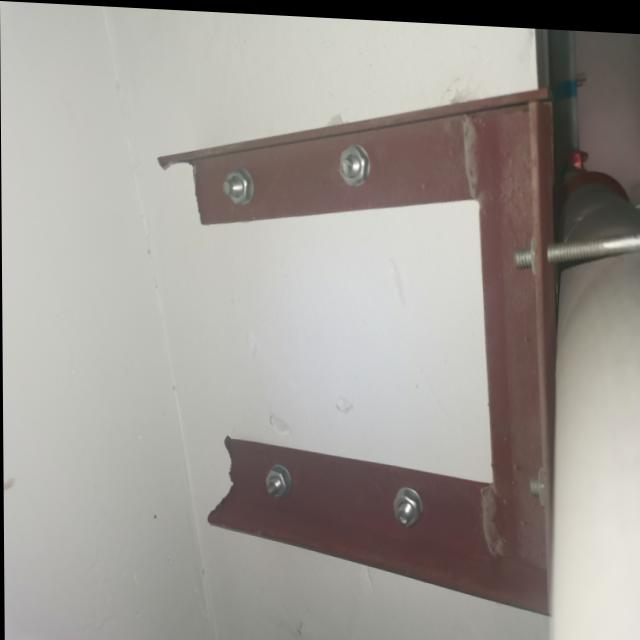Regular bolt: (340, 141, 370, 183), (393, 484, 422, 525), (225, 166, 254, 203), (266, 461, 292, 498), (513, 230, 535, 268), (529, 464, 545, 499)
